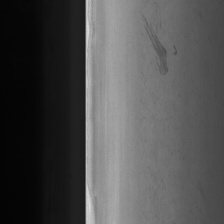water_spot: (145, 90, 199, 214), (139, 9, 180, 84)
